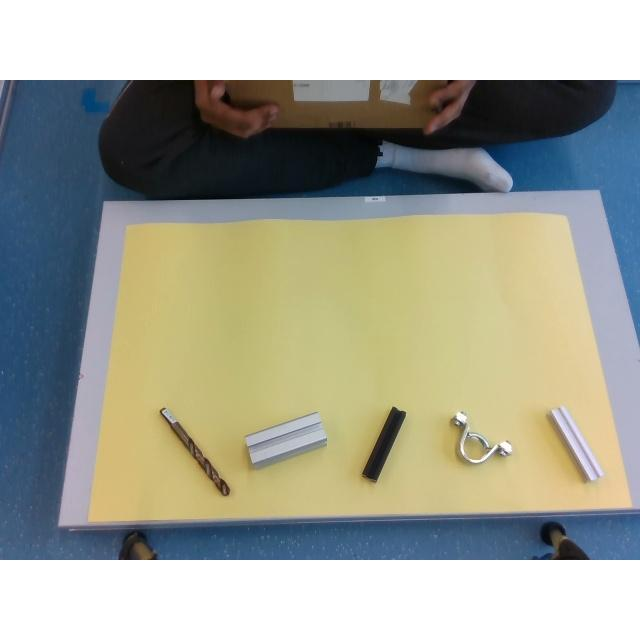Drill: (160, 408, 228, 497)
F20_20_B: (362, 406, 406, 482)
F20_20_G: (548, 406, 604, 482)
Housing: (450, 410, 510, 464)
S40_40_G: (246, 410, 326, 466)
